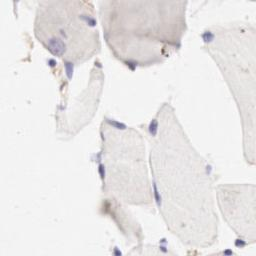nucleus: (49, 35, 67, 57), (103, 116, 127, 131), (77, 12, 97, 27), (152, 183, 162, 209), (200, 28, 215, 44), (64, 60, 74, 81), (125, 60, 141, 73), (148, 118, 159, 136), (159, 237, 168, 253), (234, 237, 246, 248), (93, 59, 103, 68), (99, 164, 105, 178), (48, 58, 56, 67), (224, 249, 233, 256), (206, 164, 212, 174), (113, 248, 121, 255)
positive_cell: (50, 59, 57, 76)
